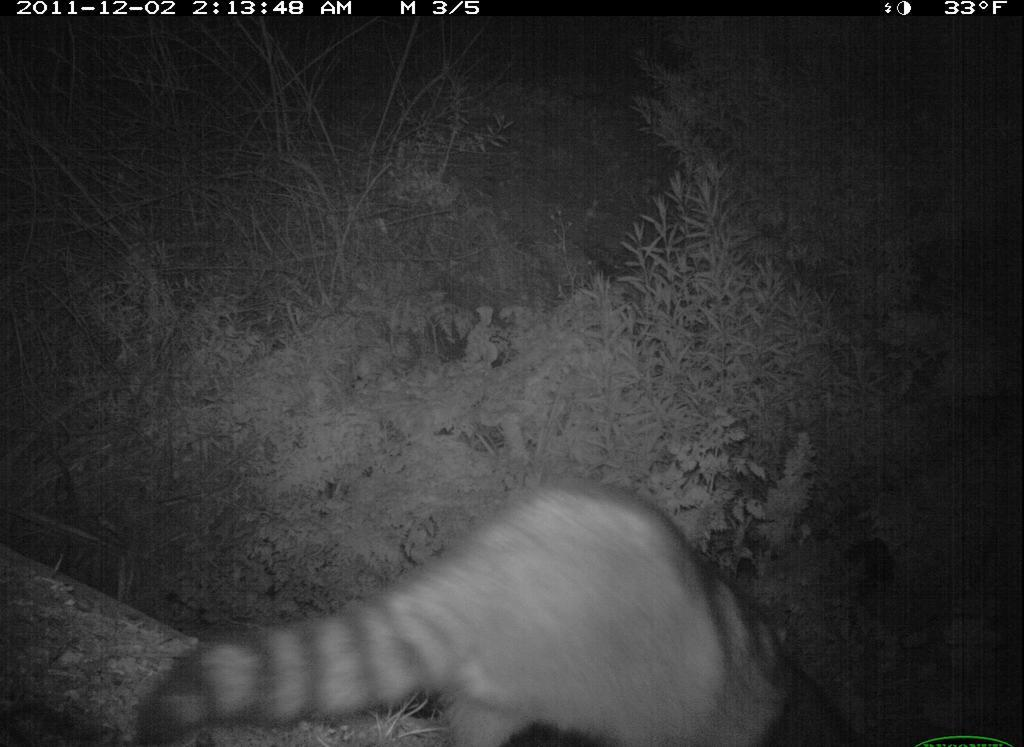raccoon: (139, 436, 820, 747)
